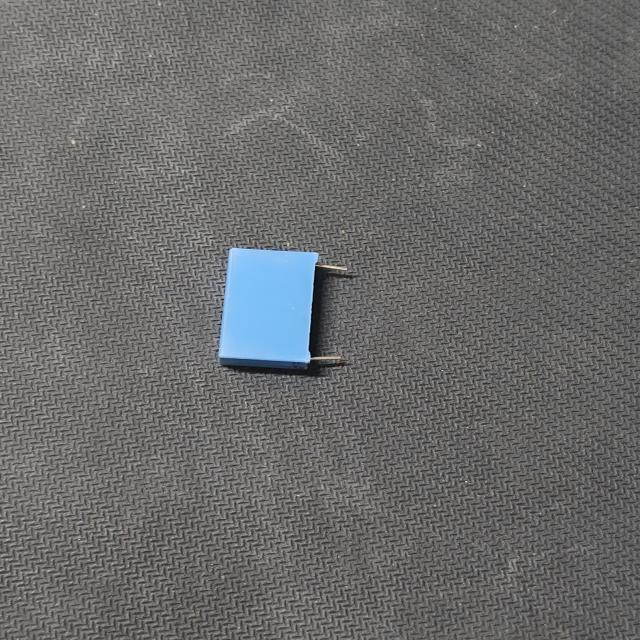capacitor: (208, 233, 354, 380)
